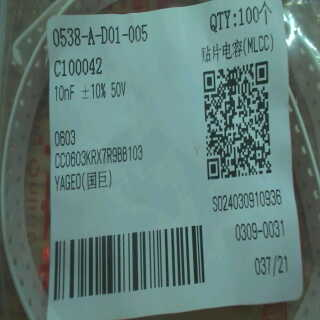10nF: (53, 83, 76, 106)
